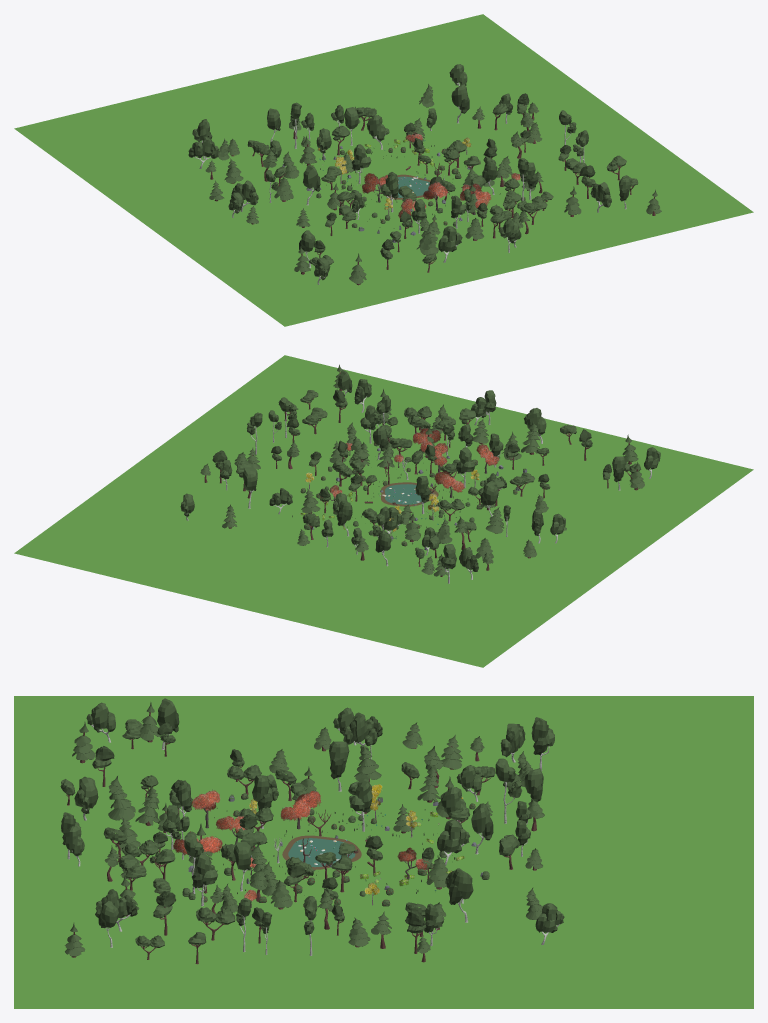
The model's file is env_polluted_pond.glb.
3 renders of one model, top to bottom at view 1: azimuth 30°, elevation 25°; view 2: azimuth 150°, elevation 25°; view 3: azimuth 270°, elevation 25°, orthographic. The views are drawn at different scales.
Visible parts, largest first — view 1: ground, BirchTree_4; view 2: ground, pond_0; view 3: ground, BirchTree_1 (×4), BirchTree_3 (×4), BirchTree_2 (×4), BirchTree_4 (×3), PineTree_3 (×2), pond_0, MapleTree_3, BirchTree_5, CommonTree_1.
Boxes of the visible parts, x1,y1,x2,y2 form: ground: (14,14,753,326); BirchTree_4: (188,136,219,168); ground: (14,355,753,667); pond_0: (385,484,433,504); ground: (14,696,753,1008); BirchTree_1 (×4): (74,702,564,944); BirchTree_3 (×4): (191,717,554,906); BirchTree_2 (×4): (157,698,493,922); BirchTree_4 (×3): (95,712,525,931); PineTree_3 (×2): (108,776,159,825); pond_0: (288,838,355,867); MapleTree_3: (280,791,321,829); BirchTree_5: (495,758,522,823); CommonTree_1: (196,907,235,940).
Bounding box in the file's own units: 140 × 13.39 × 140.
Materials: 25 (6 with a texture image).
